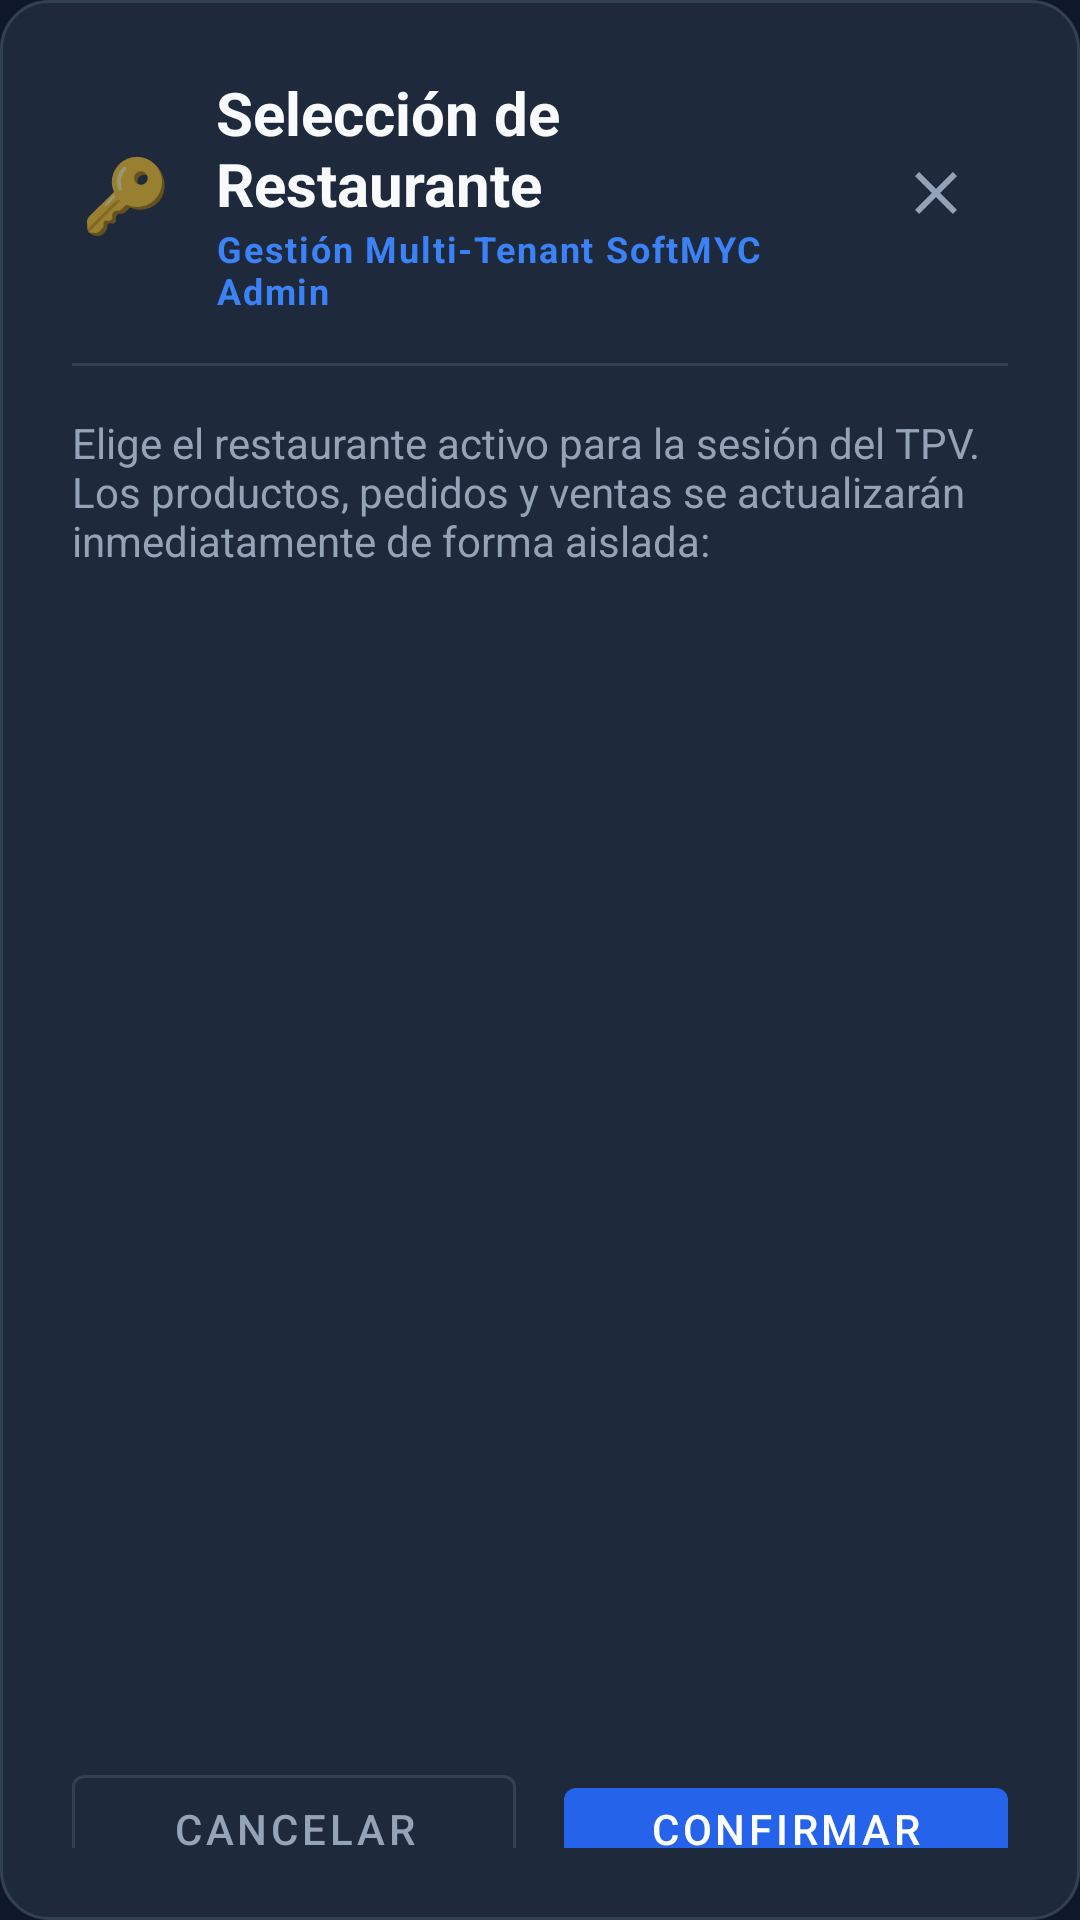

Where icons sit on this 1080px×1920px app screen, as (x1, y1, x2, y2):
Cerrar: (915, 172, 957, 214)
